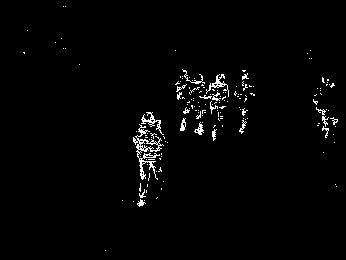person: (132, 111, 165, 209), (206, 69, 230, 142), (233, 66, 255, 135), (312, 74, 332, 138), (190, 73, 208, 136), (175, 66, 192, 132)
